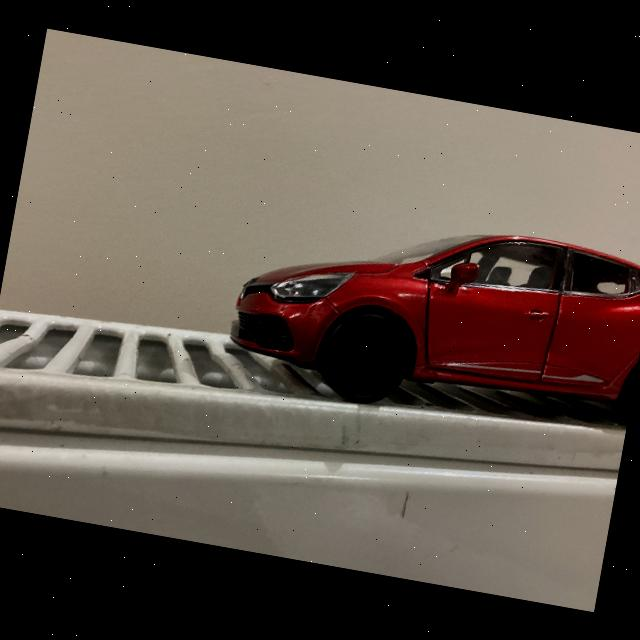Dogru_Jant: (328, 319, 406, 397)
